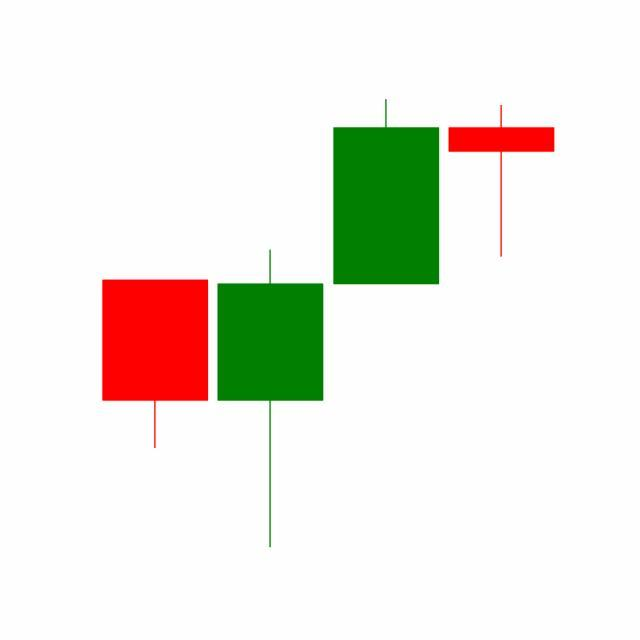Dragonfly Doji: (444, 103, 560, 259)
